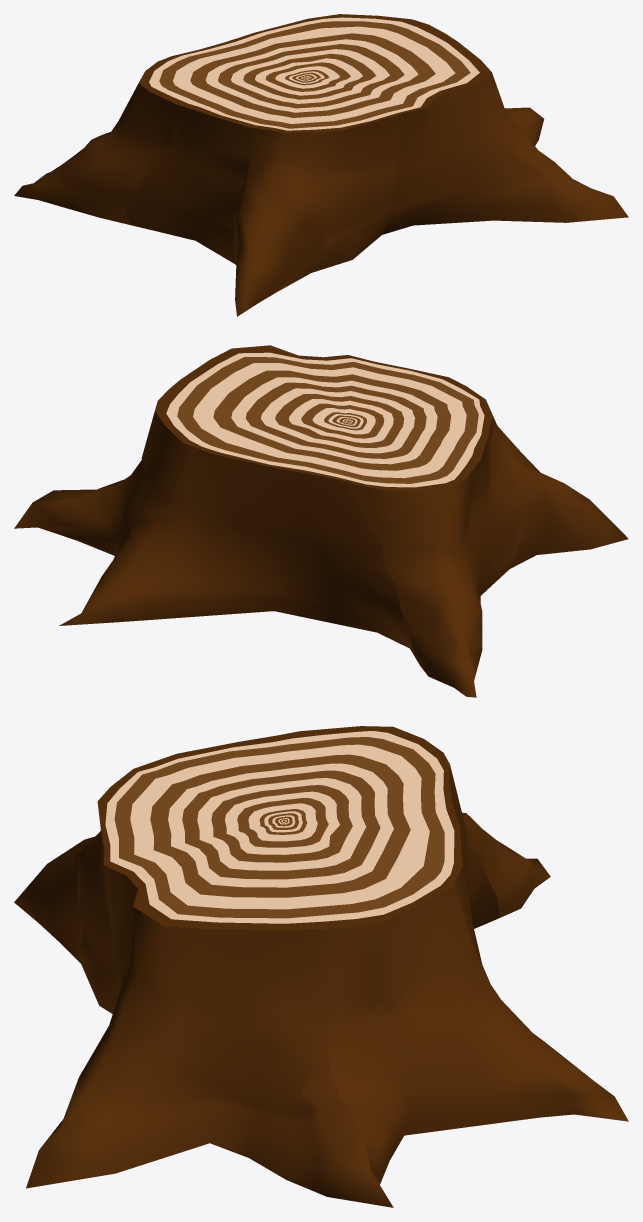
The model's file is stump.FBX.
The picture shows the model from 3 angles, top to bottom: view 1: azimuth 30°, elevation 25°; view 2: azimuth 150°, elevation 25°; view 3: azimuth 270°, elevation 25°; orthographic projection. The views are drawn at different scales.
Visible parts, largest first — view 1: stump; view 2: stump; view 3: stump.
Boxes of the visible parts, bbox=[...] form: stump: bbox=[14, 14, 628, 316]; stump: bbox=[14, 345, 628, 697]; stump: bbox=[14, 726, 628, 1207].
Bounding box in the file's own units: 107 × 29.46 × 82.46.
